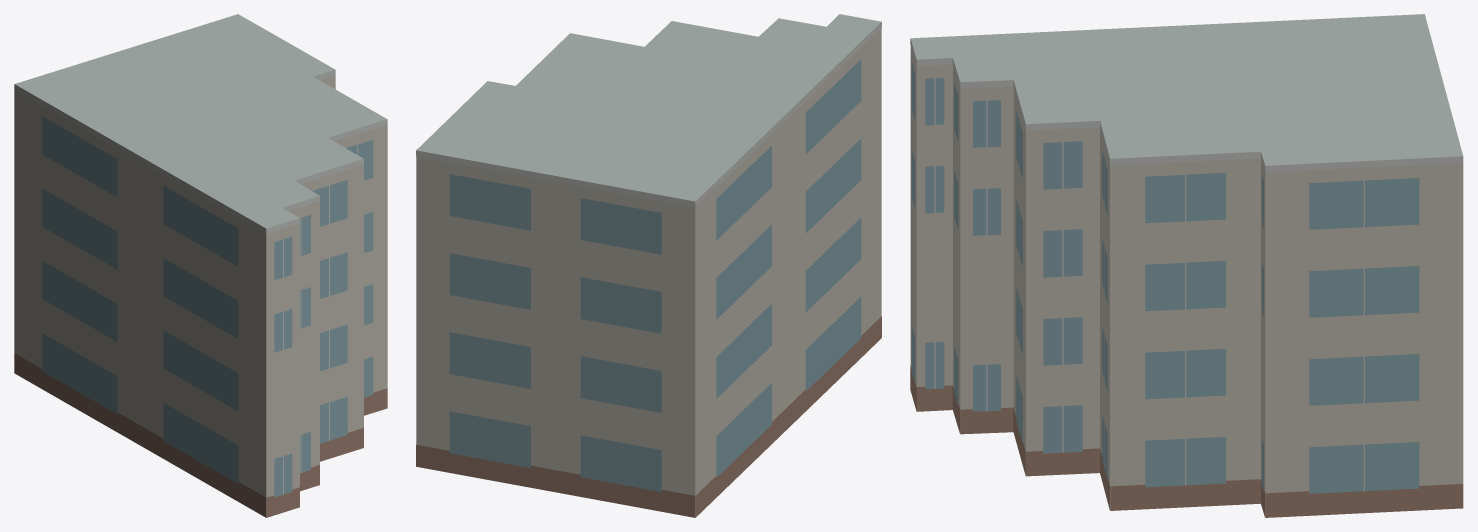
The model's file is survey-upis-32620234.glb.
3 views of the same model, side by side, from view 1: azimuth 30°, elevation 25°; view 2: azimuth 150°, elevation 25°; view 3: azimuth 270°, elevation 25° (orthographic). The views are drawn at different scales.
Visible parts, largest first — view 1: survey-upis-32620234.tmp; view 2: survey-upis-32620234.tmp; view 3: survey-upis-32620234.tmp.
Part boxes in pixels (bbox=[...]): survey-upis-32620234.tmp: bbox=[14, 14, 387, 517]; survey-upis-32620234.tmp: bbox=[416, 14, 881, 517]; survey-upis-32620234.tmp: bbox=[910, 14, 1463, 517].
Bounding box in the file's own units: 11.94 × 12.9 × 18.37.
